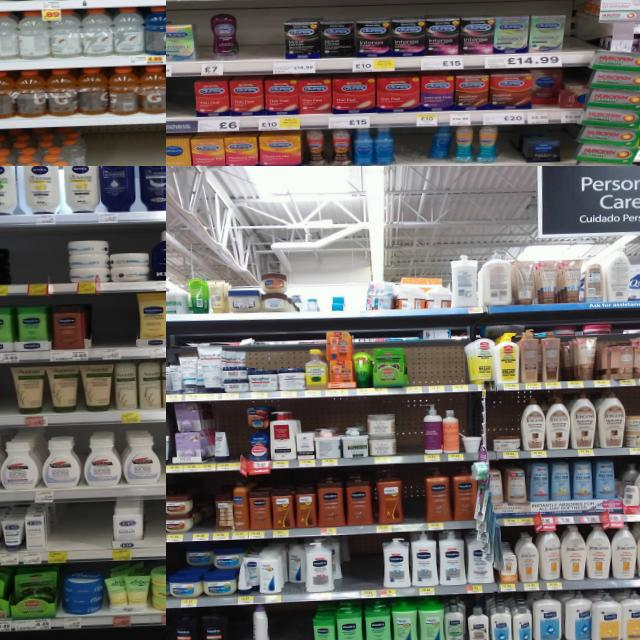100% O.O.S: (240, 8, 284, 72), (166, 78, 195, 131), (394, 126, 429, 166), (566, 8, 590, 61), (498, 124, 511, 166), (560, 124, 570, 166)
100- O.O.S: (11, 234, 68, 295), (56, 502, 110, 562), (86, 126, 166, 166), (92, 296, 134, 361), (351, 534, 382, 598), (268, 603, 313, 640), (395, 404, 423, 462), (402, 468, 427, 530), (424, 345, 447, 392), (446, 346, 466, 392), (196, 486, 213, 539), (406, 348, 424, 394), (229, 606, 253, 640), (0, 364, 11, 428), (228, 412, 240, 470)
